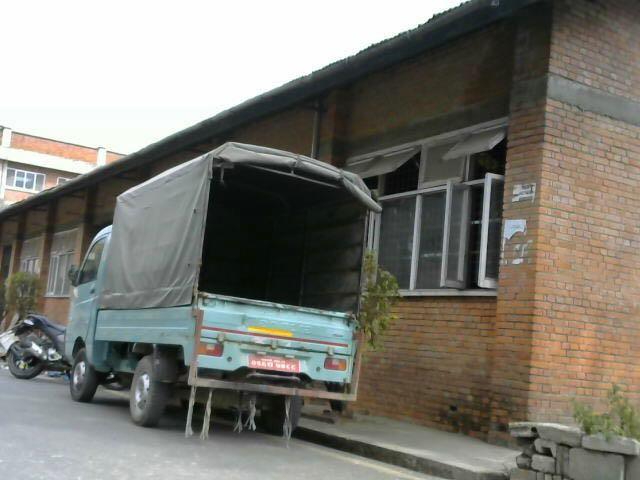Building: (321, 0, 632, 422)
Motorcycle: (64, 144, 355, 419)
